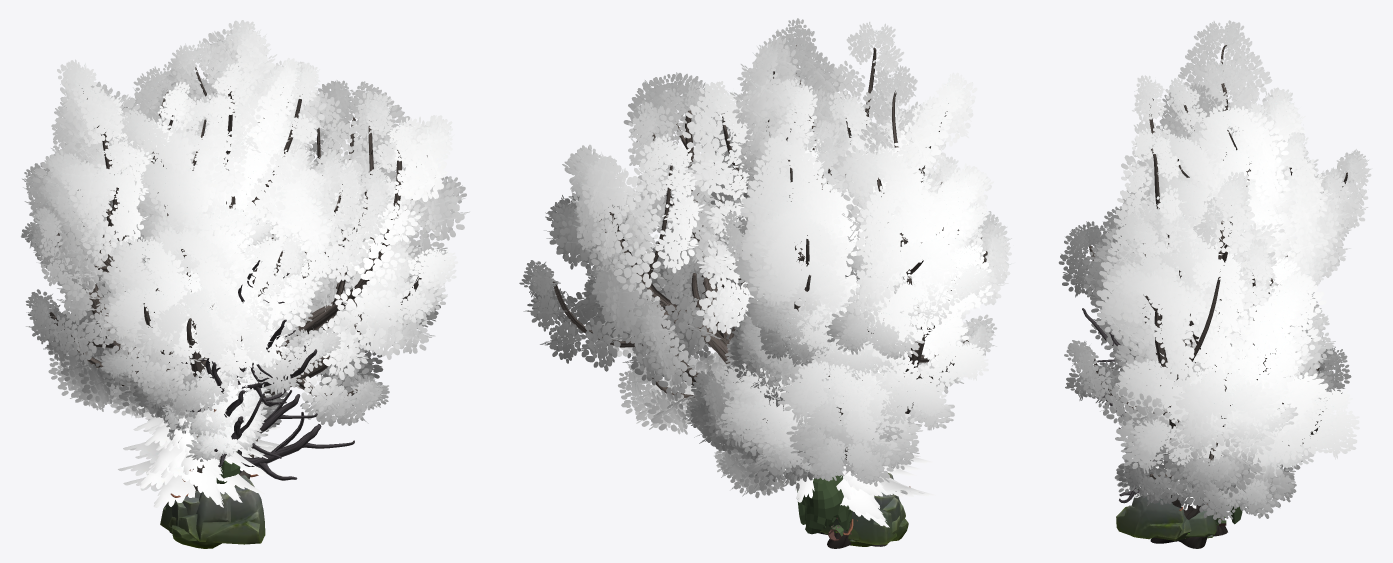
File: nature.glb
3 views of the same model, side by side, from view 1: azimuth 30°, elevation 25°; view 2: azimuth 150°, elevation 25°; view 3: azimuth 270°, elevation 25° (orthographic). The views are drawn at different scales.
Parts seen in each view (by area): view 1: TwistedTree_2, TwistedTree_1, TwistedTree_3, TwistedTree_4, TwistedTree_5, DeadTree_2, Rock_Medium_3, Pine_2, Pine_5, Pine_4, CommonTree_3, CommonTree_2 (+4 smaller); view 2: TwistedTree_1, TwistedTree_2, TwistedTree_4, TwistedTree_3, TwistedTree_5, Willow_2_Cube.011, Pine_5, Rock_Medium_2, Pine_2; view 3: TwistedTree_1, TwistedTree_4, TwistedTree_2, TwistedTree_3, TwistedTree_5, Rock_Medium_3, Rock_Medium_2.
Boxes of the visible parts, <box> form: TwistedTree_2: <box>21,59,320,490</box>; TwistedTree_1: <box>145,60,469,533</box>; TwistedTree_3: <box>48,92,394,418</box>; TwistedTree_4: <box>66,20,367,433</box>; TwistedTree_5: <box>91,98,345,319</box>; DeadTree_2: <box>169,245,354,480</box>; Rock_Medium_3: <box>172,475,265,548</box>; Pine_2: <box>123,424,272,507</box>; Pine_5: <box>118,413,288,502</box>; Pine_4: <box>123,393,270,497</box>; CommonTree_3: <box>169,355,266,440</box>; CommonTree_2: <box>161,367,267,459</box>; TwistedTree_1: <box>519,72,887,548</box>; TwistedTree_2: <box>721,18,1013,441</box>; TwistedTree_4: <box>710,37,937,489</box>; TwistedTree_3: <box>683,99,1011,498</box>; TwistedTree_5: <box>709,119,924,410</box>; Willow_2_Cube.011: <box>797,475,852,534</box>; Pine_5: <box>785,433,925,519</box>; Rock_Medium_2: <box>820,492,896,544</box>; Pine_2: <box>779,448,934,527</box>; TwistedTree_1: <box>1064,171,1359,548</box>; TwistedTree_4: <box>1080,84,1372,380</box>; TwistedTree_2: <box>1100,20,1318,376</box>; TwistedTree_3: <box>1058,163,1351,513</box>; TwistedTree_5: <box>1111,166,1350,379</box>; Rock_Medium_3: <box>1116,488,1186,539</box>; Rock_Medium_2: <box>1186,510,1216,537</box>.
Size of the model in its own units: 17.96 by 19.08 by 12.13.
Materials: 25 (12 with a texture image).
